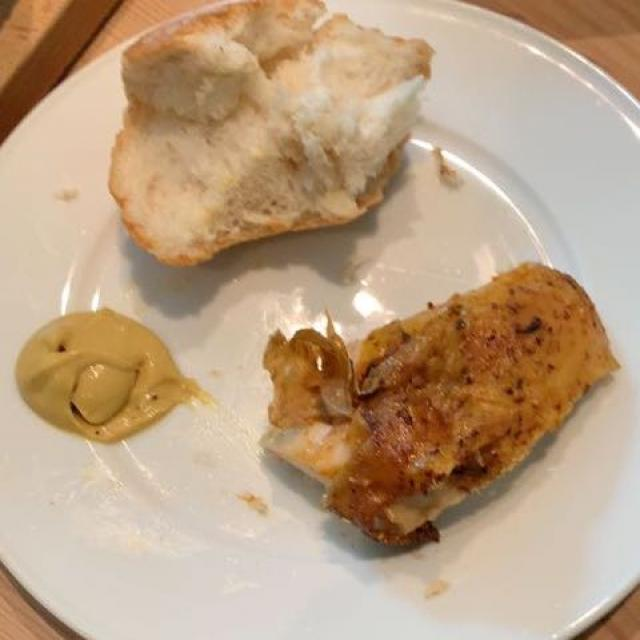bread-white: (121, 3, 427, 261)
chicken-wing: (270, 268, 611, 540)
mustard: (17, 311, 207, 444)
